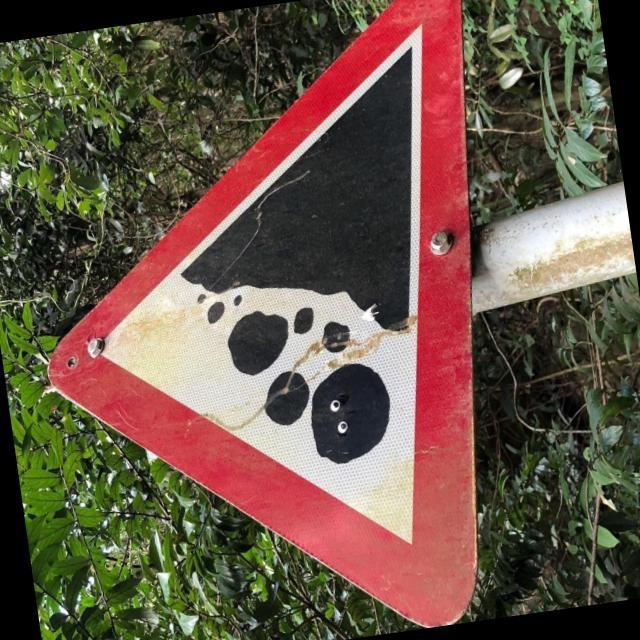obstructed_road_sign: (41, 1, 475, 626)
